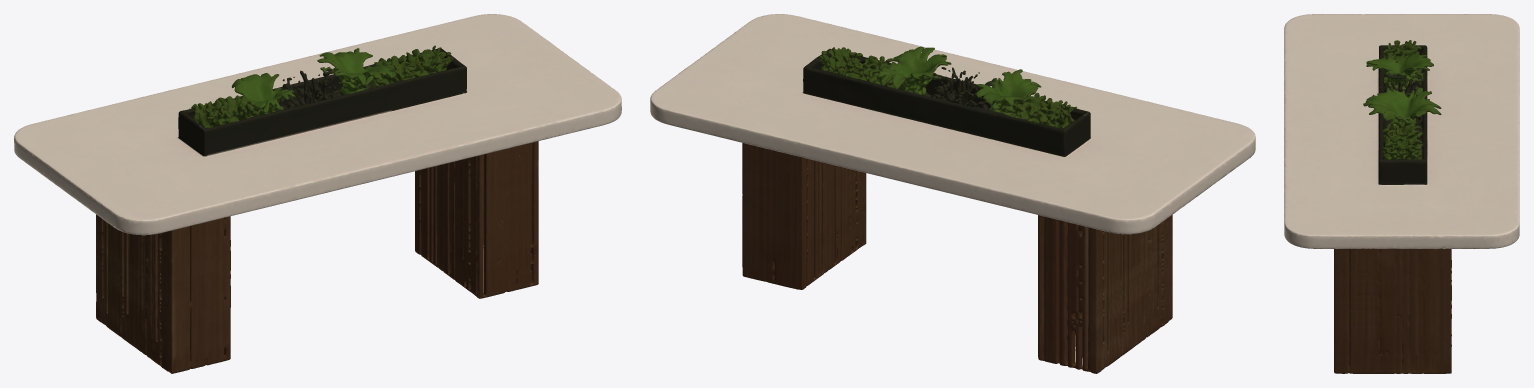
File: 05_中央绿植会议桌.glb
3 views of the same model, side by side, from view 1: azimuth 30°, elevation 25°; view 2: azimuth 150°, elevation 25°; view 3: azimuth 270°, elevation 25° (orthographic). The views are drawn at different scales.
Visible parts, largest first — view 1: world; view 2: world; view 3: world.
Part boxes in pixels (left/top/right/bottom): world: left=14, top=14, right=621, bottom=373; world: left=650, top=14, right=1255, bottom=373; world: left=1284, top=14, right=1519, bottom=373.
Bounding box in the file's own units: 1 × 0.446 × 0.4495.
Materials: 1 (1 with a texture image).
